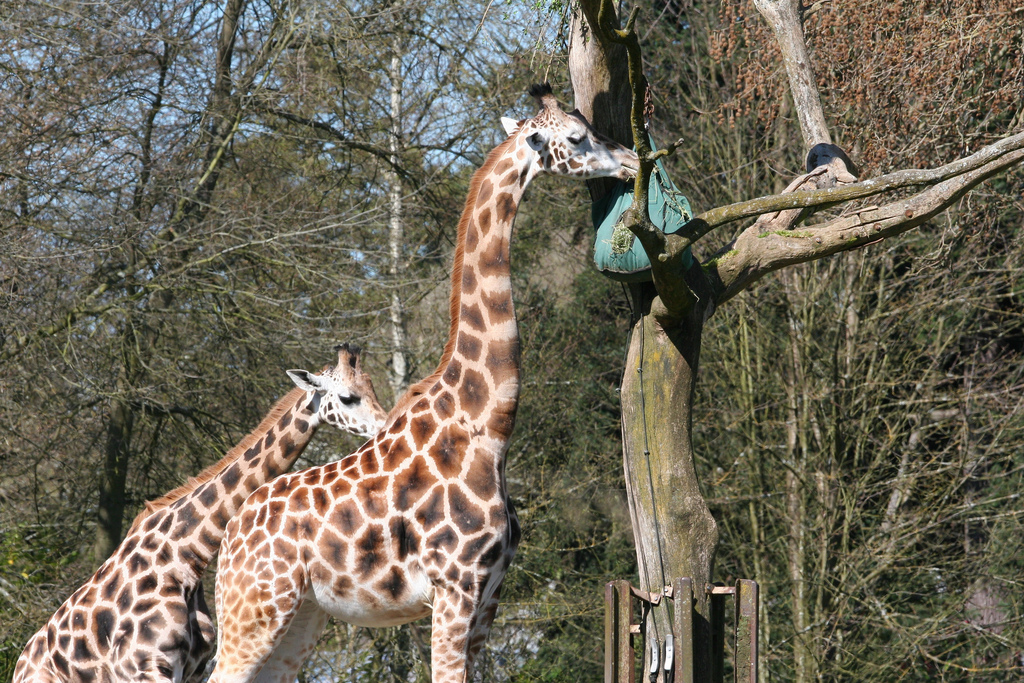giraffe: (322, 74, 637, 646), (37, 316, 431, 659)
